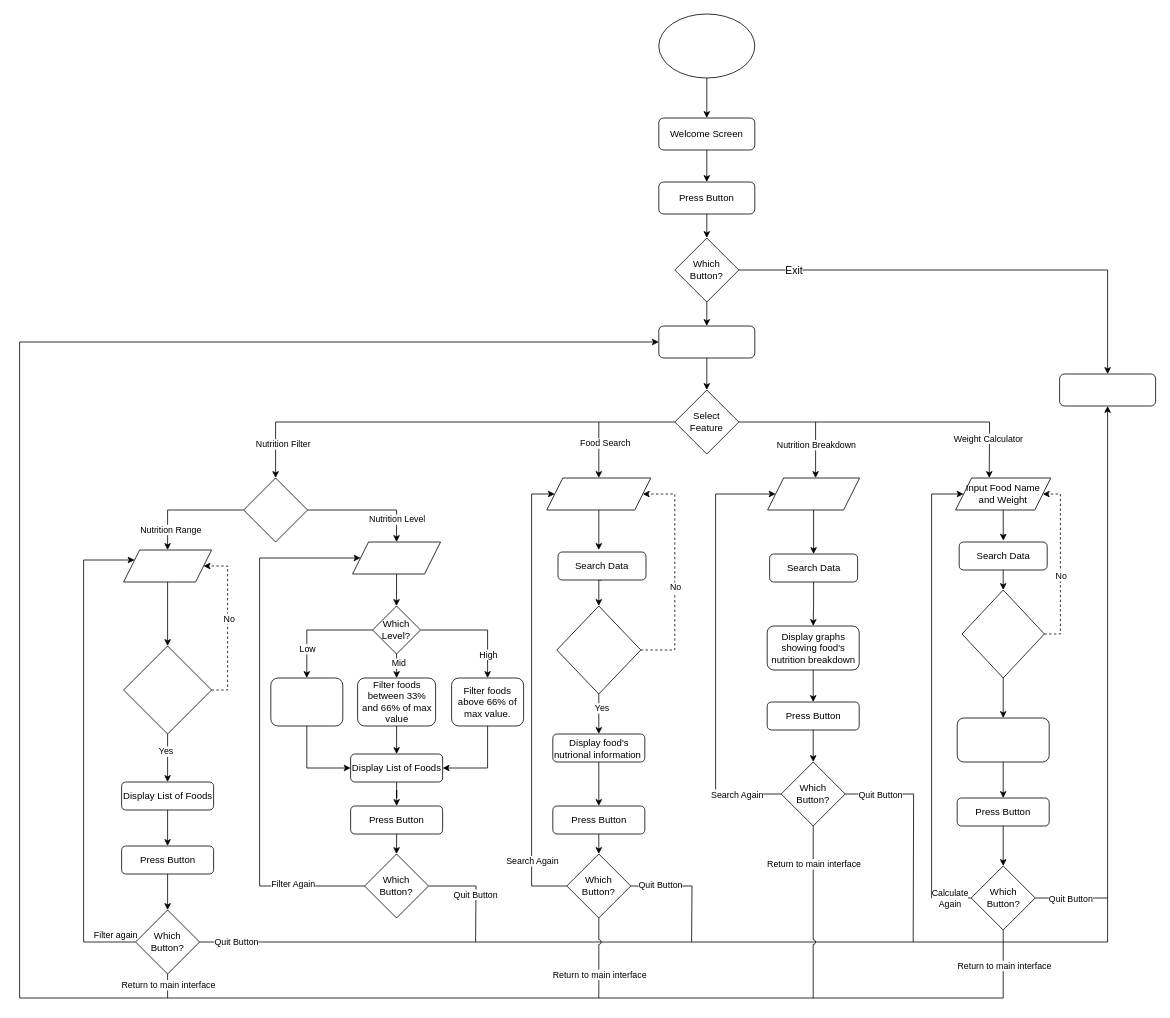
This 1170x1018 diagram has some shape labels left out. Here are the shapes that lost their labels. From the top down, the centre of each, then its label:
At (706,45): "Start".
At (706,341): "Main Interface".
At (1107,389): "Close Software".
At (275,509): "Type of Filter".
At (598,493): "Input Food Name".
At (813,493): "Select One Food".
At (167,565): "Input Nutrient and Range".
At (396,557): "Input Nutrient".
At (598,649): "Do any foods with this name exist ?".
At (1002,633): "Does the food exist in the database?".
At (167,689): "Do any foods fall within that nutritional range?".
At (306,701): "Filter foods under 33% of max value.".
At (1002,739): "Display nutrient composition of that serving".
